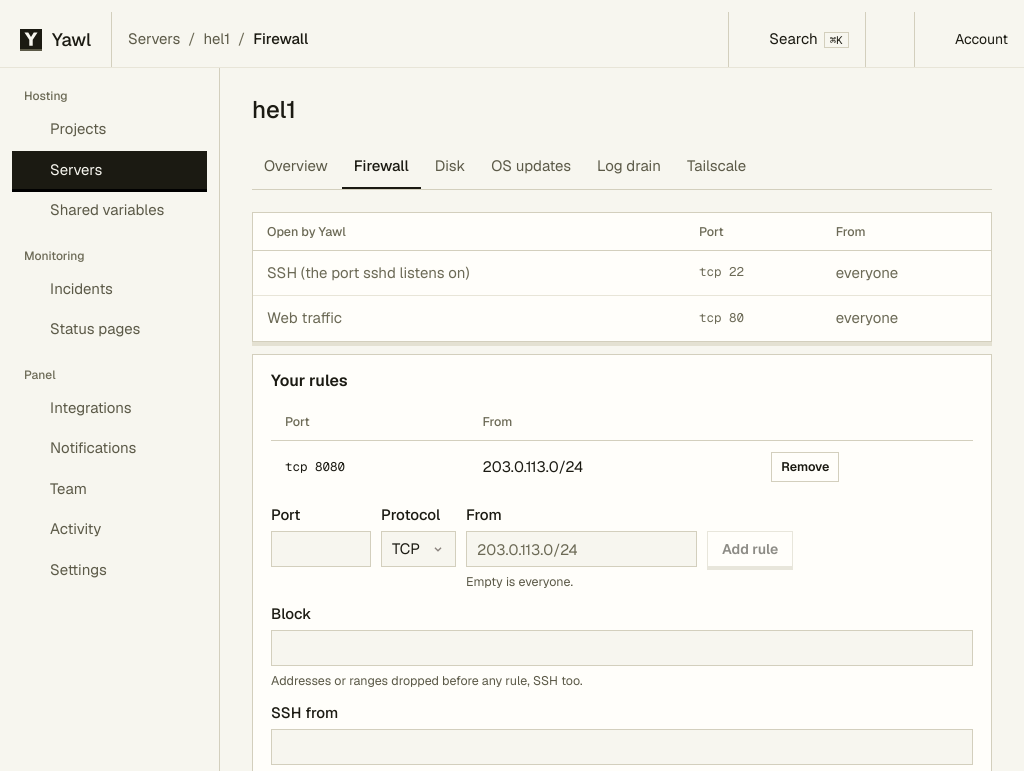
Firewall › refuses a port that is not a port, inline
Type "ssh" into the field labelled "Port" at (321, 549), box [271,531,371,567]
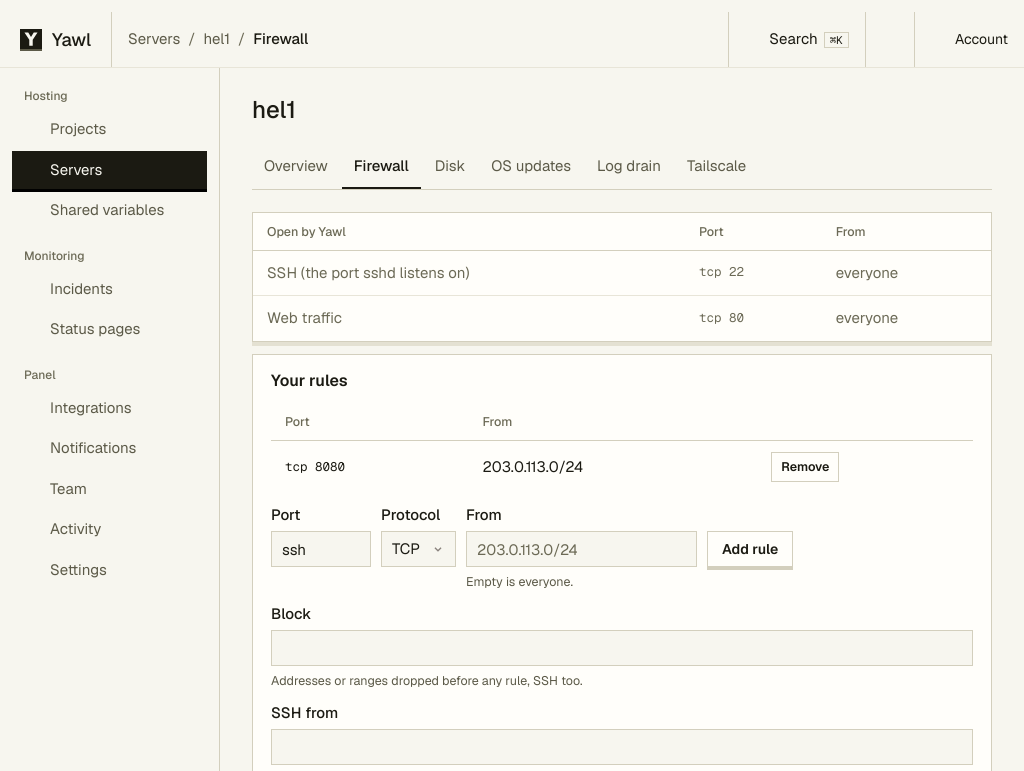
Click the button "Add rule" at (750, 549), box [707,531,793,567]
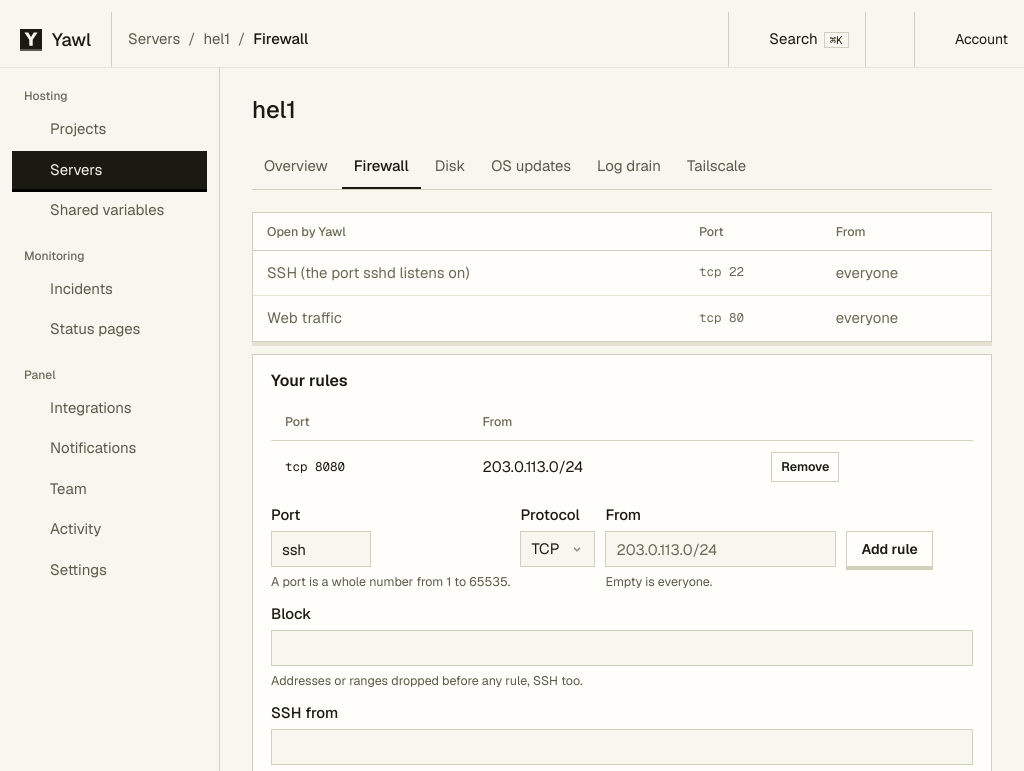
Expected: the text "A port is a whole number from 1 to 65535." is shown, [271,573,510,590]
